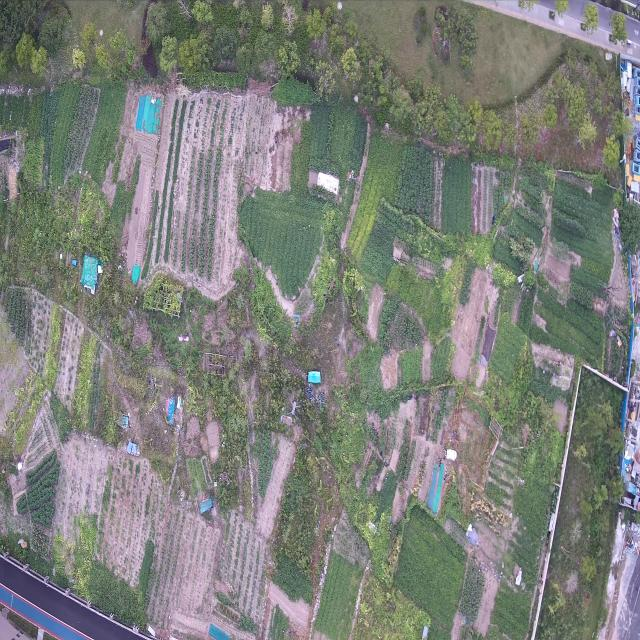UAV: (286, 397, 300, 422)
